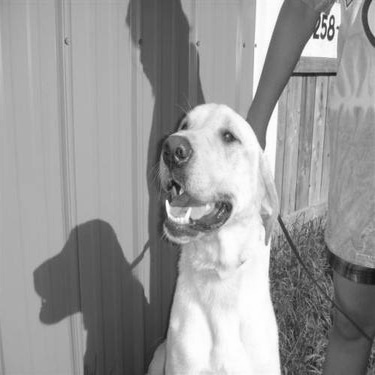dog: (135, 92, 289, 371)
